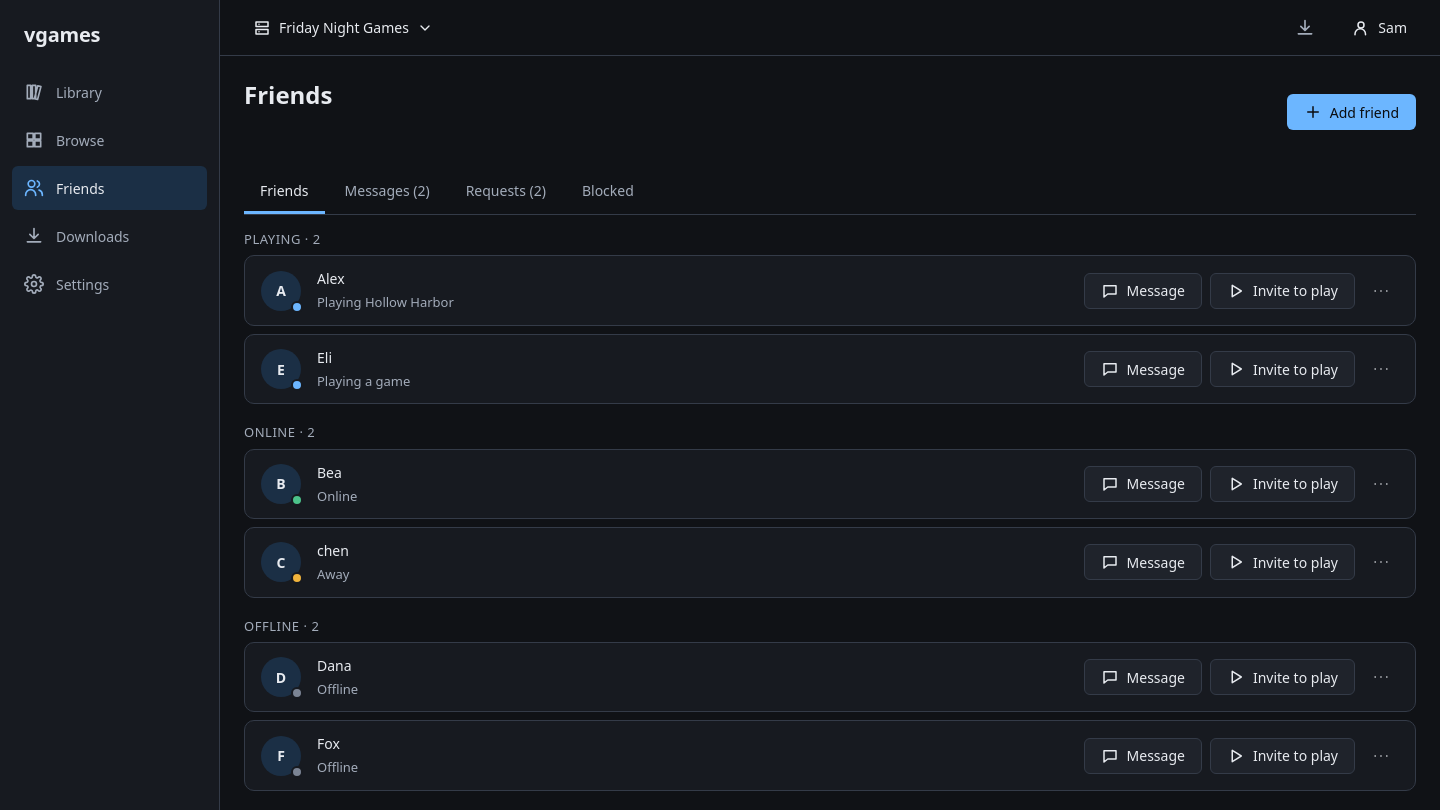
Test: add friend › creates a code with a countdown and copy
The width and height of the screenshot is (1440, 810).
Click the button "Add friend".
click(1351, 112)  # box [1287,94,1416,130]
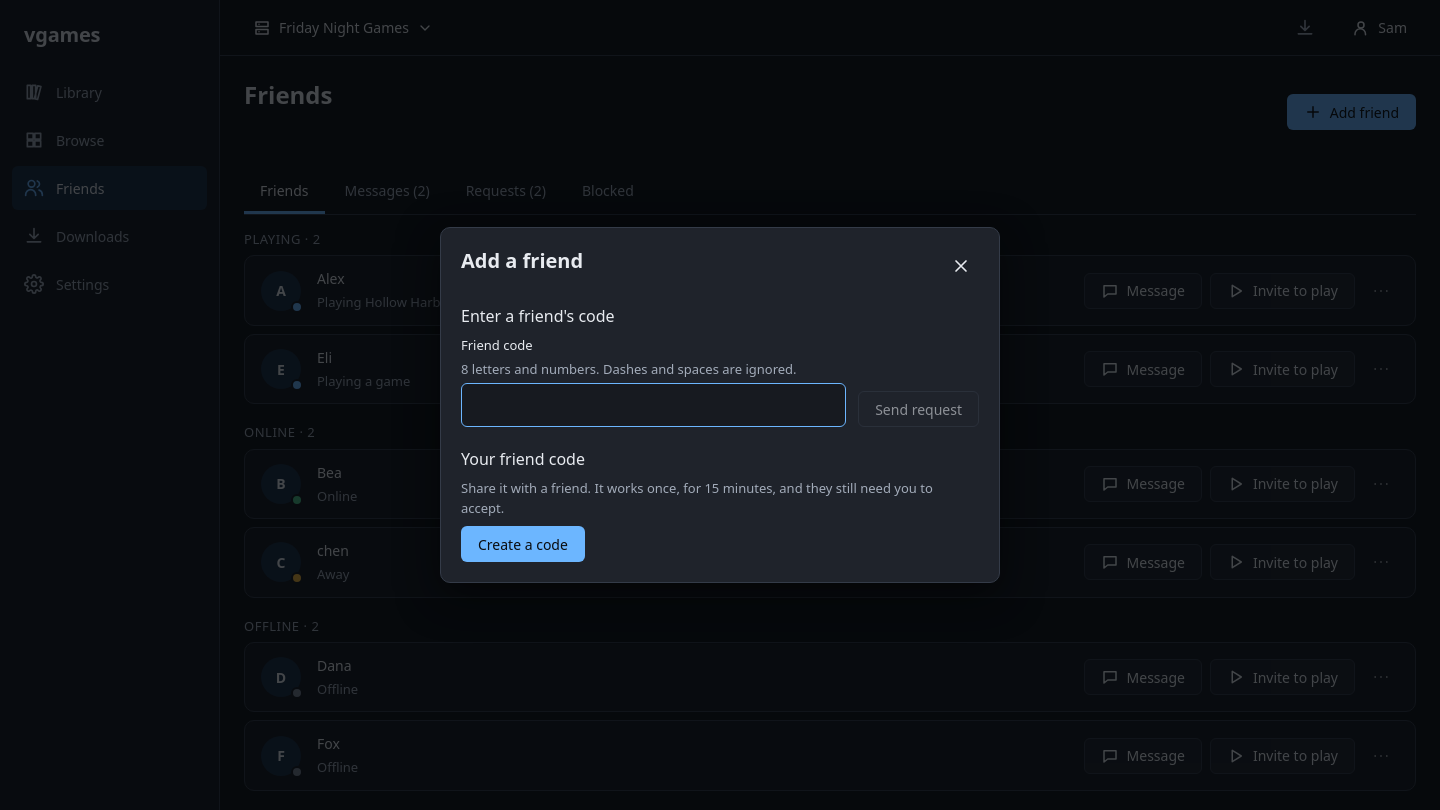
Click the button "Create a code".
click(523, 544)  # box [461,526,585,562]
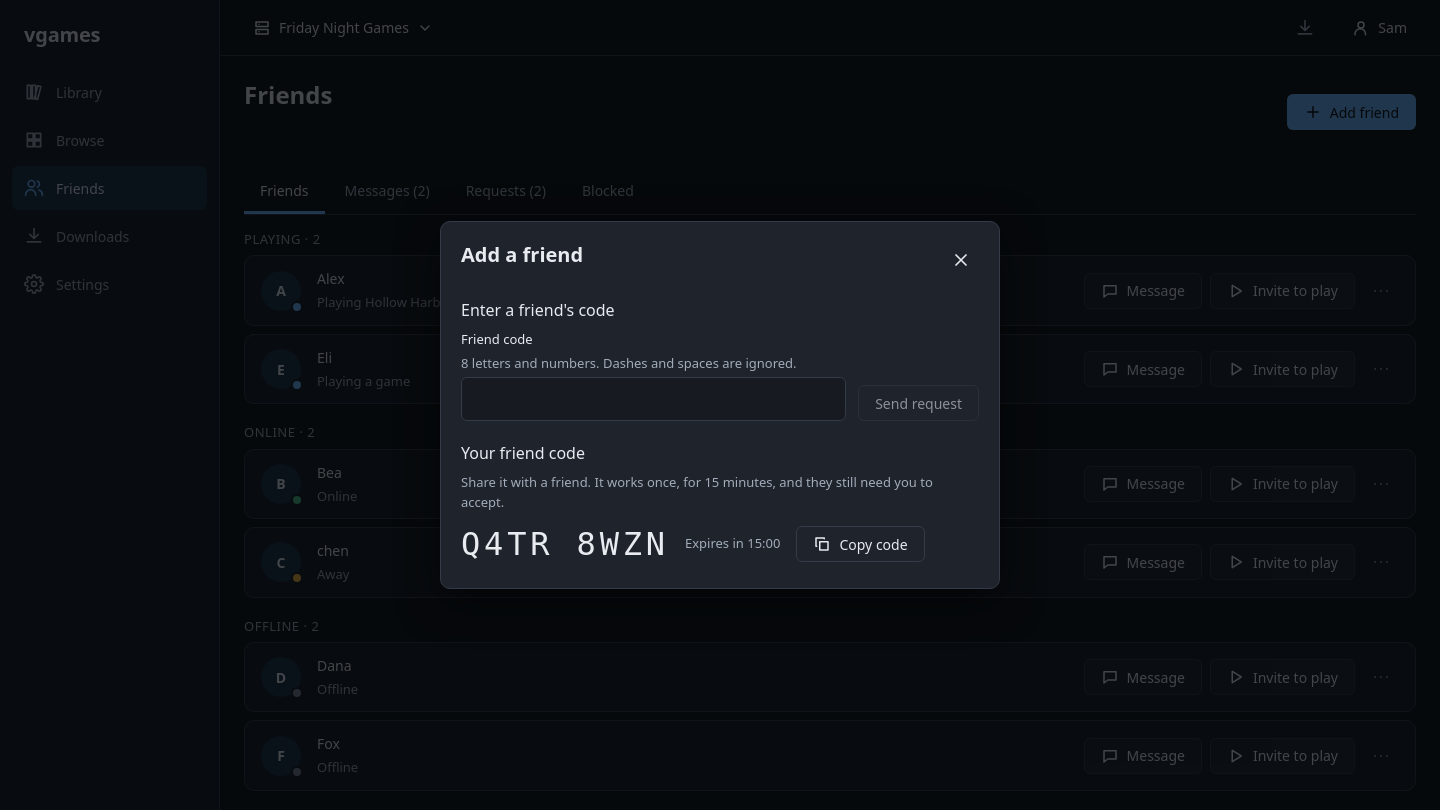
Expected: the text "Q4TR 8WZN" is shown, [461,520,669,568]
Expected: the text "Expires in 15:00" is shown, [685,534,780,554]
Expected: the button "Copy code" is shown, [796,526,925,562]
